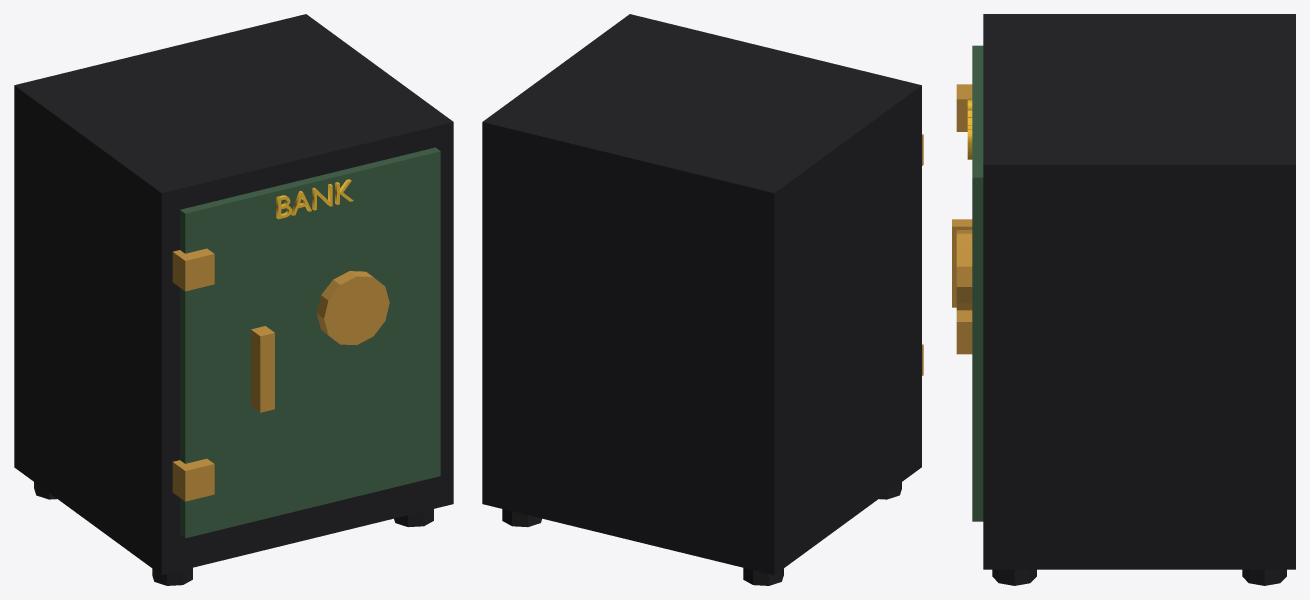
File: SM_Safe.obj
The picture shows the model from 3 angles, left to right: view 1: azimuth 30°, elevation 25°; view 2: azimuth 150°, elevation 25°; view 3: azimuth 270°, elevation 25°; orthographic projection. The views are drawn at different scales.
Visible parts, largest first — view 1: SM_Safe; view 2: SM_Safe; view 3: SM_Safe.
Boxes of the visible parts, x1,y1,x2,y2 form: SM_Safe: (14,14,453,585); SM_Safe: (482,14,923,585); SM_Safe: (952,14,1295,585).
Size of the model in its own units: 0.8 by 1.05 by 0.77.
